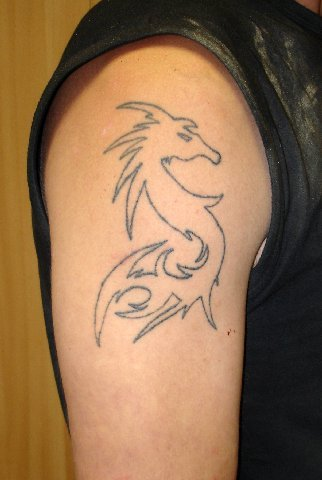tatu6_drakon: (72, 84, 266, 357)
